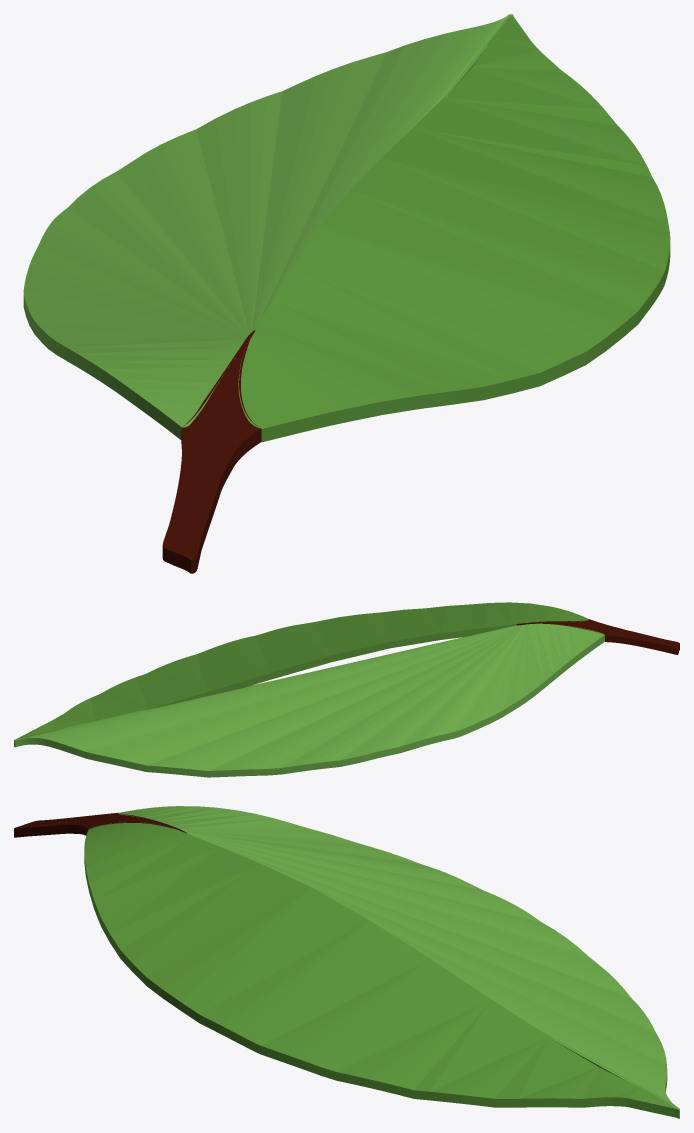
The model's file is mongo.glb.
3 renders of one model, top to bottom at view 1: azimuth 30°, elevation 25°; view 2: azimuth 150°, elevation 25°; view 3: azimuth 270°, elevation 25°, orthographic. The views are drawn at different scales.
Visible parts, largest first — view 1: Curve, Curve.001, Curve.002; view 2: Curve.001, Curve, Curve.002; view 3: Curve, Curve.001, Curve.002.
Part boxes in pixels (left/top/right/bottom): Curve: left=238, top=15, right=670, bottom=442; Curve.001: left=23, top=14, right=513, bottom=439; Curve.002: left=162, top=330, right=261, bottom=573; Curve.001: left=14, top=622, right=604, bottom=777; Curve: left=16, top=602, right=588, bottom=739; Curve.002: left=516, top=619, right=679, bottom=654; Curve: left=84, top=822, right=676, bottom=1117; Curve.001: left=118, top=806, right=679, bottom=1118; Curve.002: left=14, top=812, right=186, bottom=837.
Size of the model in its own units: 1.8 by 0.2645 by 1.89.
